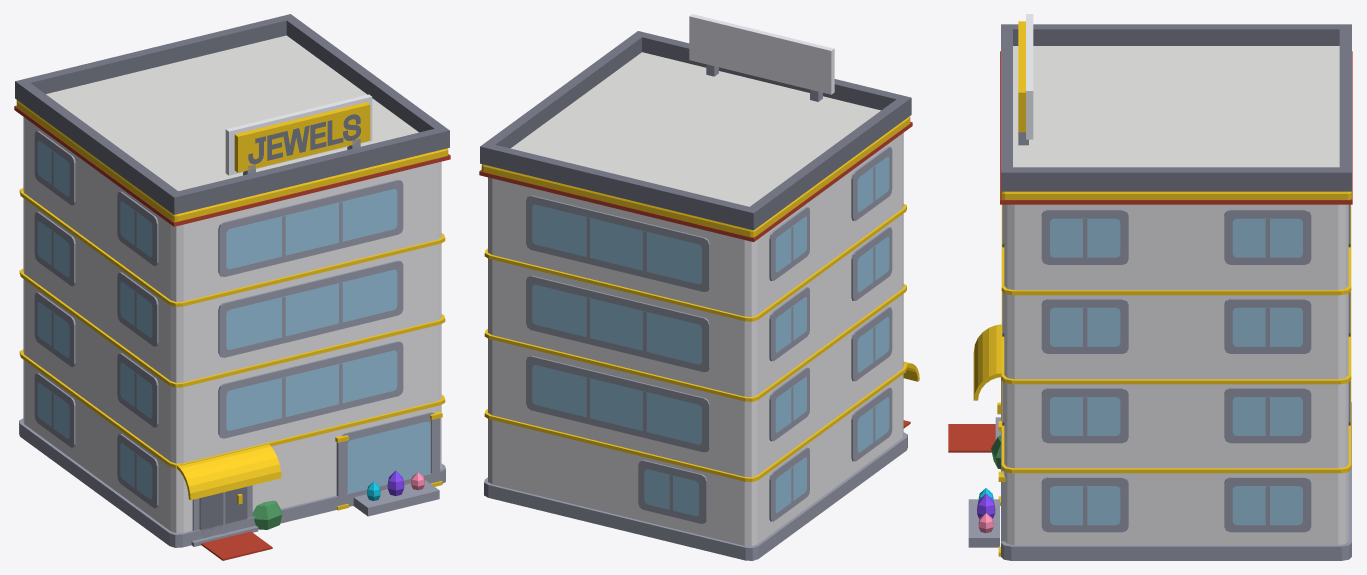
File: shop-luxury-1x1-t4-tone-a.glb
The picture shows the model from 3 angles, left to right: view 1: azimuth 30°, elevation 25°; view 2: azimuth 150°, elevation 25°; view 3: azimuth 270°, elevation 25°; orthographic projection. The views are drawn at different scales.
Visible parts, largest first — view 1: shop-luxury-1x1-t4-tone-a; view 2: shop-luxury-1x1-t4-tone-a; view 3: shop-luxury-1x1-t4-tone-a.
Part boxes in pixels (left/top/right/bottom): shop-luxury-1x1-t4-tone-a: left=14, top=14, right=450, bottom=560; shop-luxury-1x1-t4-tone-a: left=479, top=14, right=919, bottom=560; shop-luxury-1x1-t4-tone-a: left=948, top=14, right=1352, bottom=560.
Size of the model in its own units: 1 by 1.36 by 1.15.
Materials: 1 (1 with a texture image).
